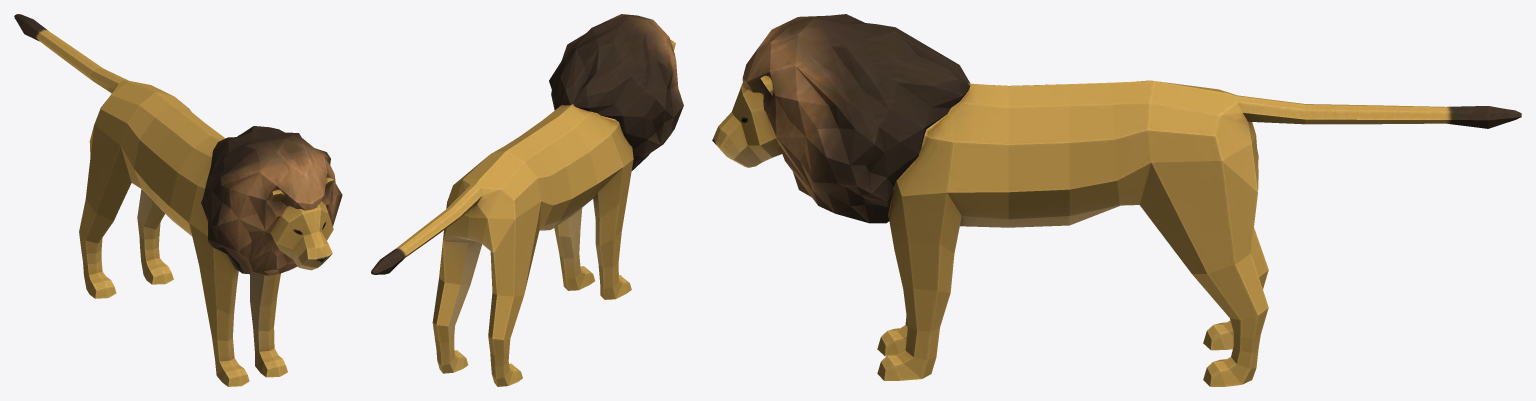
Rendered from lion.glb.
3 renders of one model, left to right at view 1: azimuth 30°, elevation 25°; view 2: azimuth 150°, elevation 25°; view 3: azimuth 270°, elevation 25°, orthographic. The views are drawn at different scales.
Parts seen in each view (by area): view 1: Lion_mesh; view 2: Lion_mesh; view 3: Lion_mesh.
Part boxes in pixels (bbox=[...]): Lion_mesh: bbox=[14, 14, 342, 386]; Lion_mesh: bbox=[371, 14, 683, 386]; Lion_mesh: bbox=[712, 14, 1521, 386].
Bounding box in the file's own units: 3.4 × 6.76 × 14.46.
Materials: 1 (1 with a texture image).
